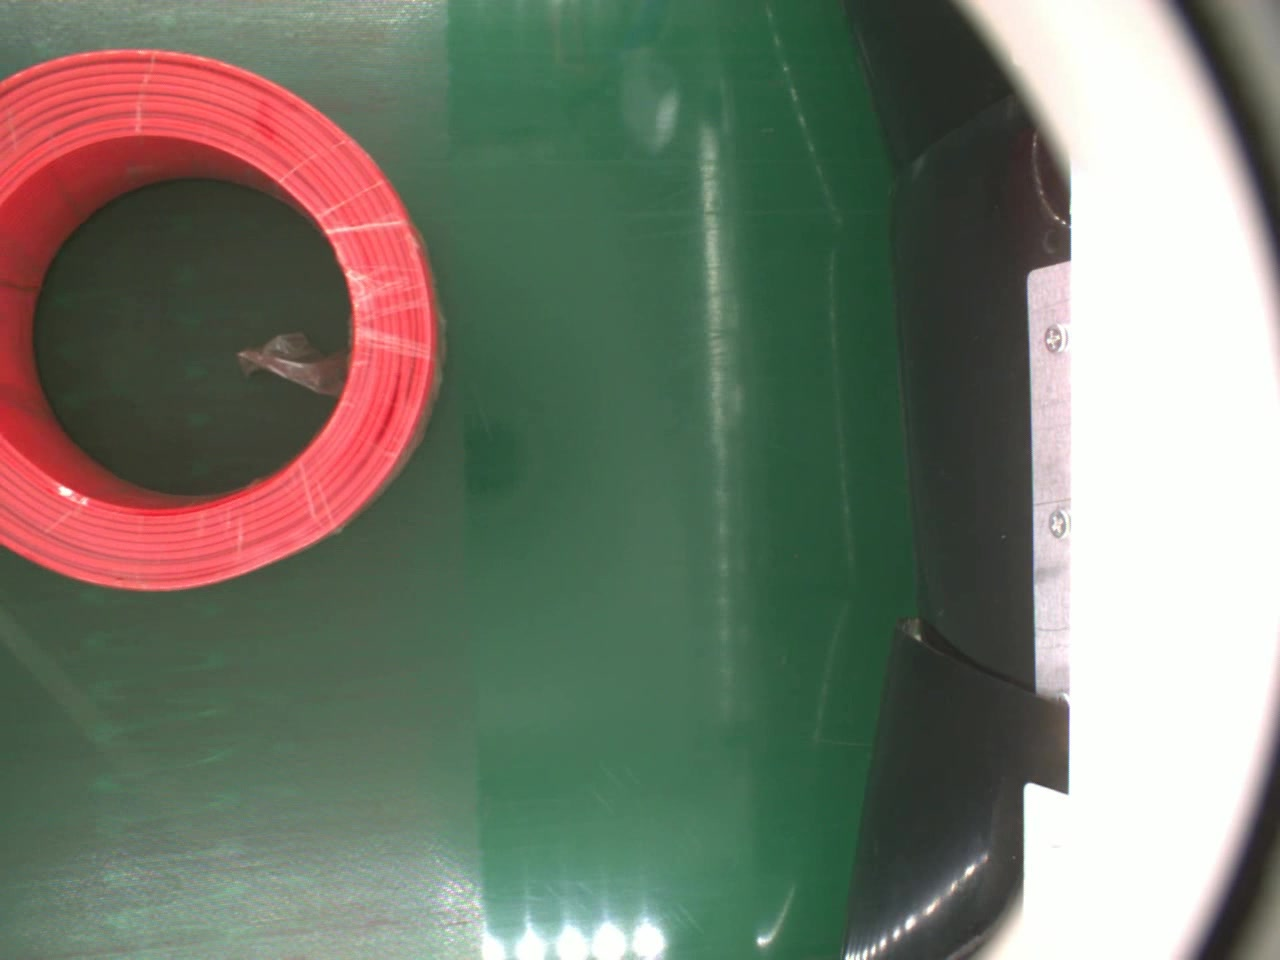red: (0, 48, 445, 593)
